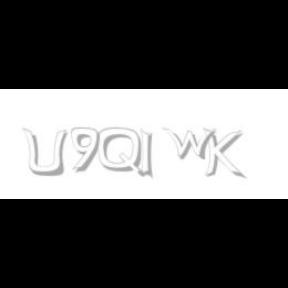9: (70, 128, 100, 172)
I: (140, 128, 153, 180)
K: (203, 128, 243, 180)
Q: (98, 128, 144, 178)
U: (22, 128, 66, 178)
w: (162, 128, 222, 160)
